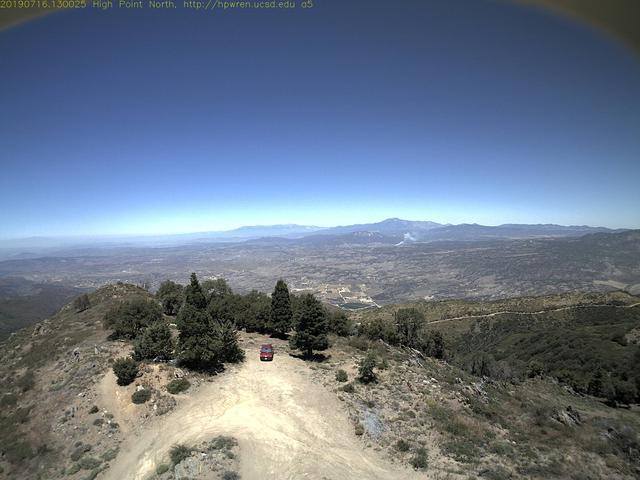smoke: (385, 225, 433, 252)
